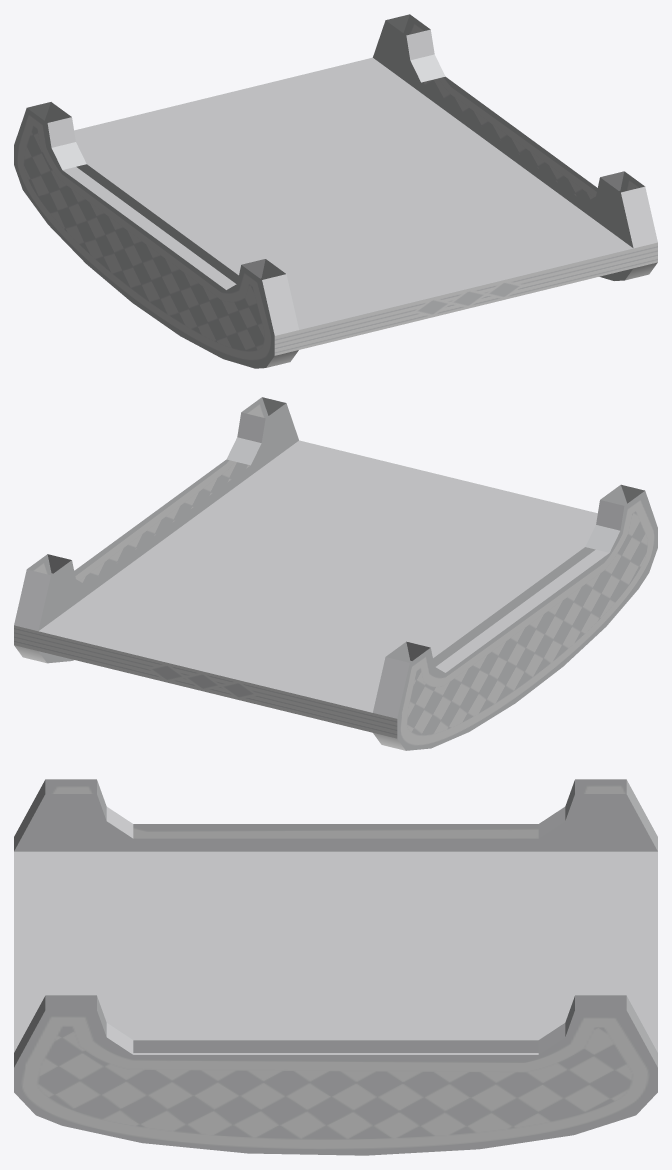
Rendered from mesaPlastico.FBX.
3 renders of one model, top to bottom at view 1: azimuth 30°, elevation 25°; view 2: azimuth 150°, elevation 25°; view 3: azimuth 270°, elevation 25°, orthographic. The views are drawn at different scales.
Visible parts, largest first — view 1: baseMesaPlastico; view 2: baseMesaPlastico; view 3: baseMesaPlastico.
Boxes of the visible parts, <box> form: baseMesaPlastico: <box>14,14,657,368</box>; baseMesaPlastico: <box>14,397,657,750</box>; baseMesaPlastico: <box>14,779,657,1155</box>.
Size of the model in its own units: 175 by 51.33 by 206.
